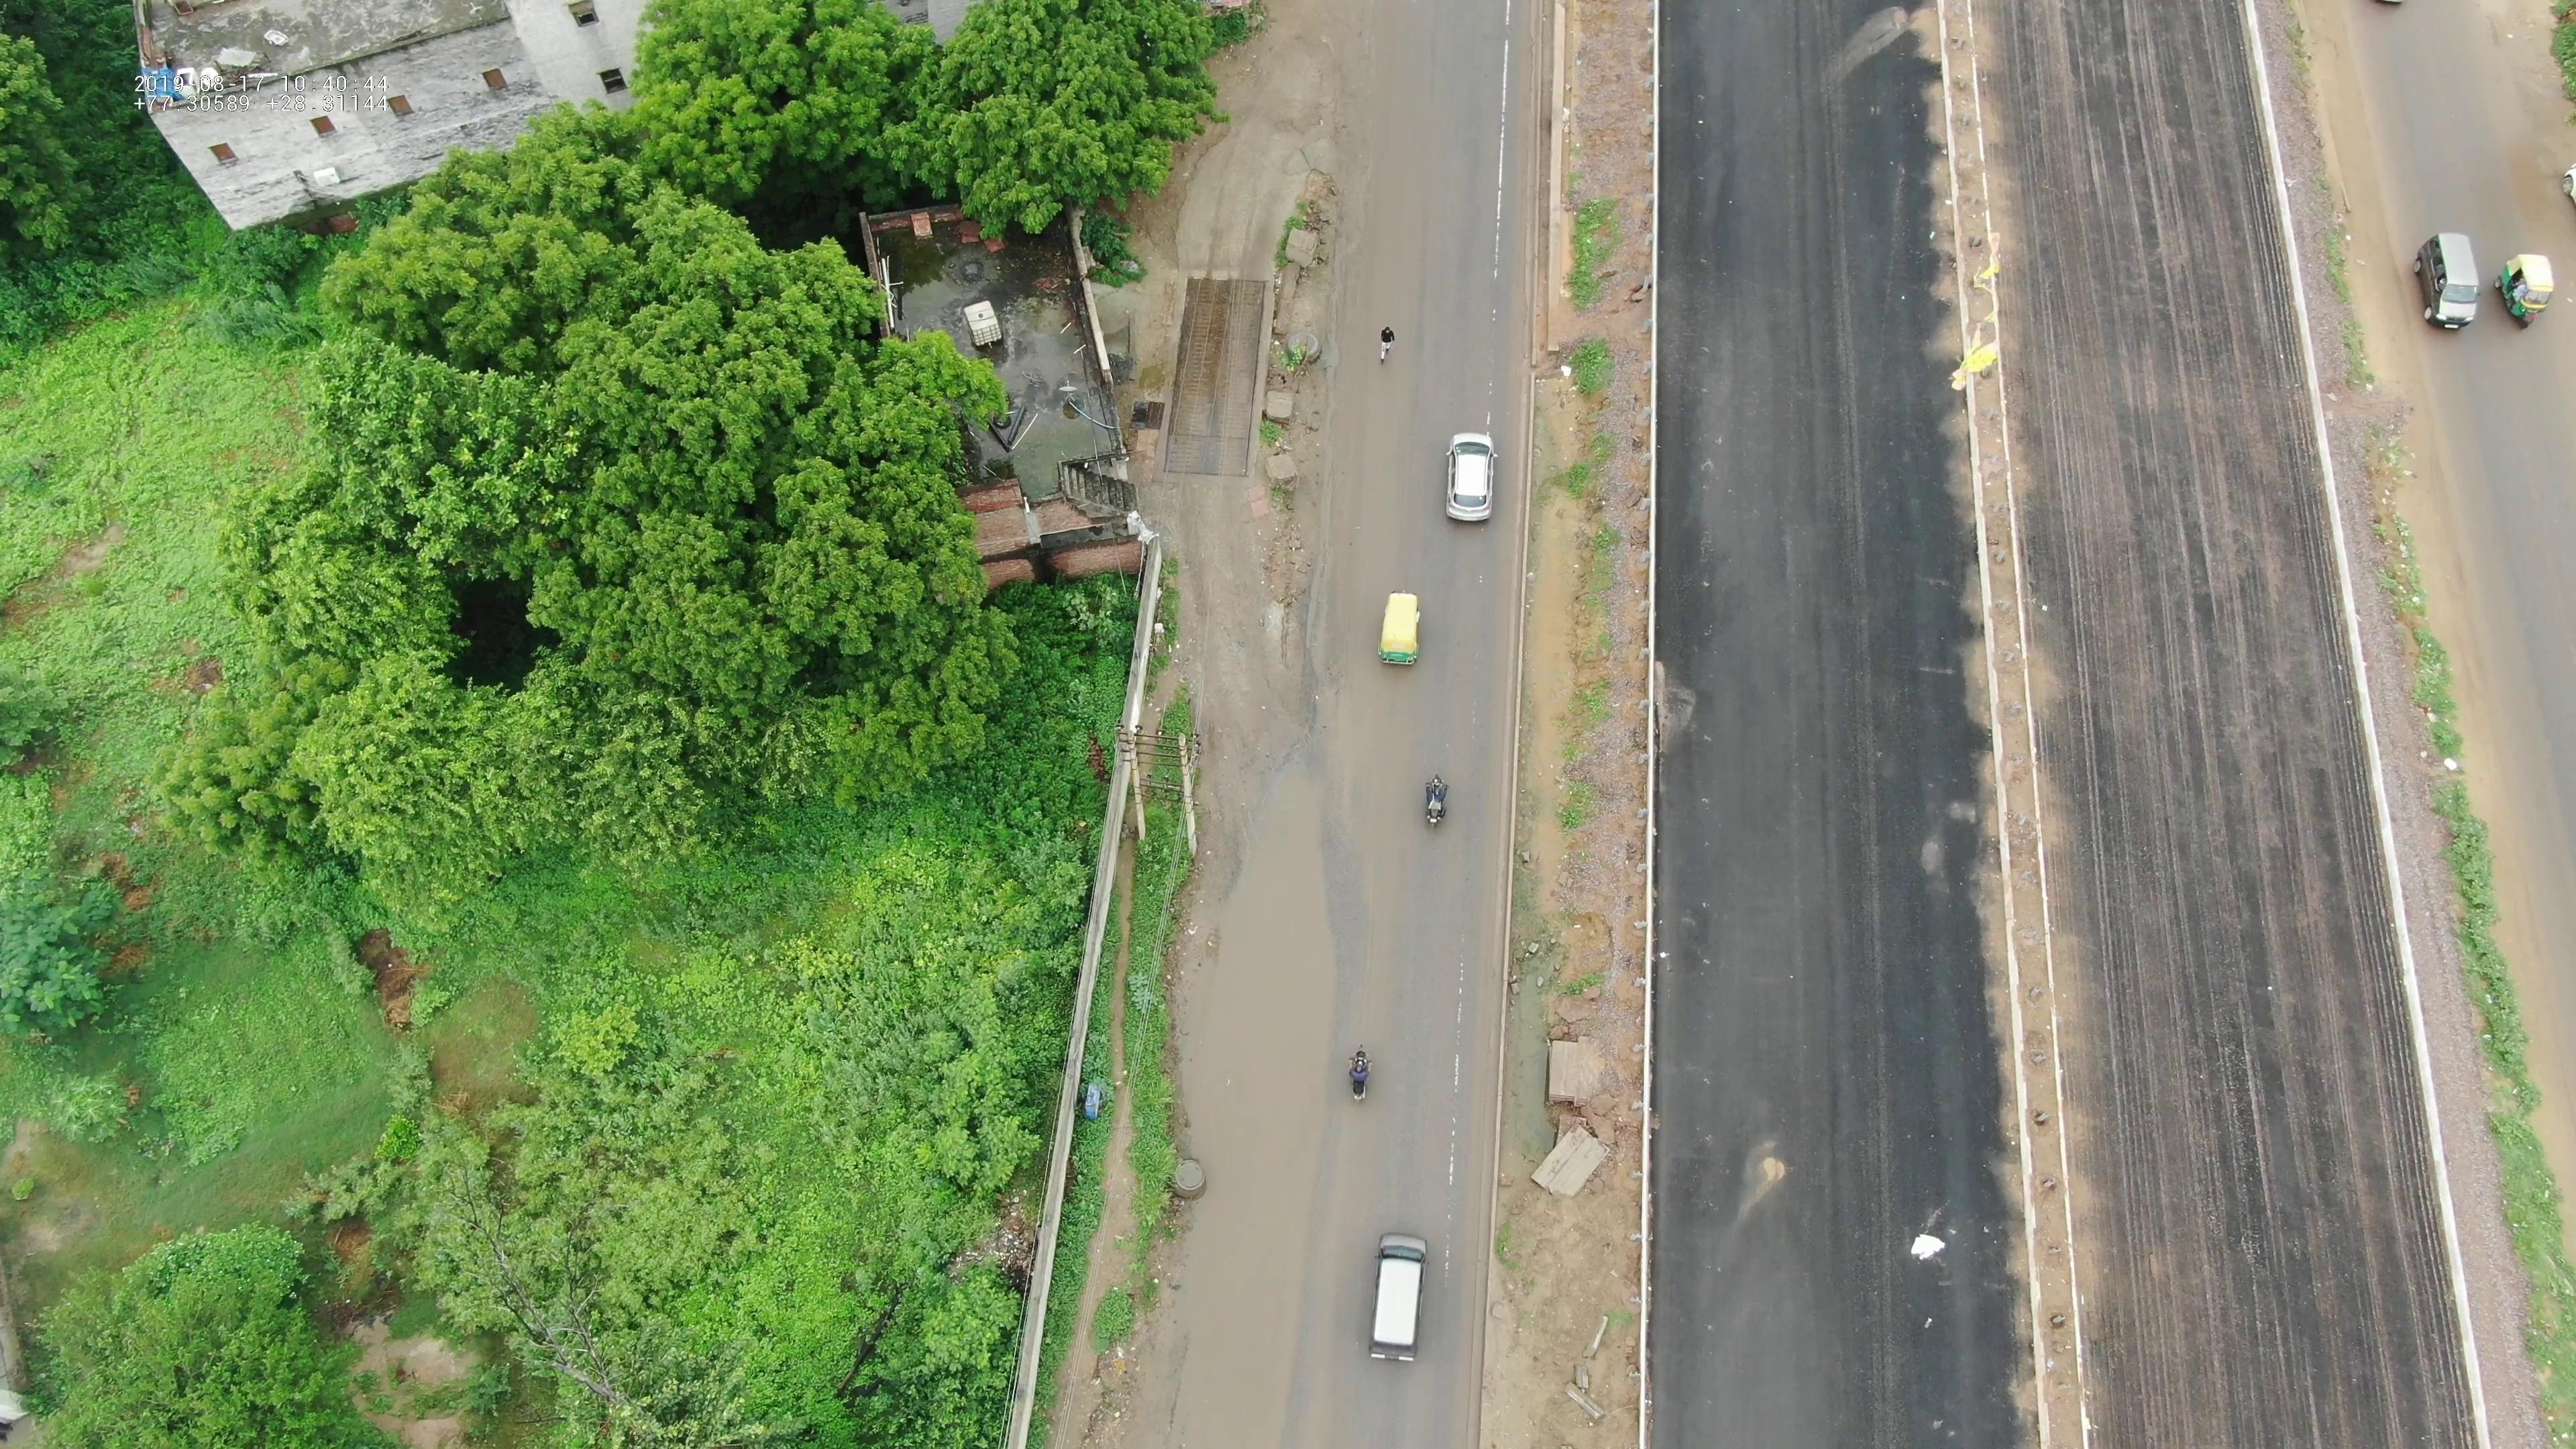Waterlogging: (1118, 750, 1355, 1410)
